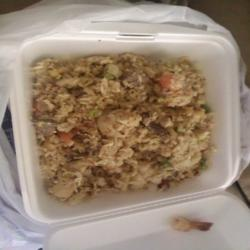rice: (27, 50, 221, 198)
